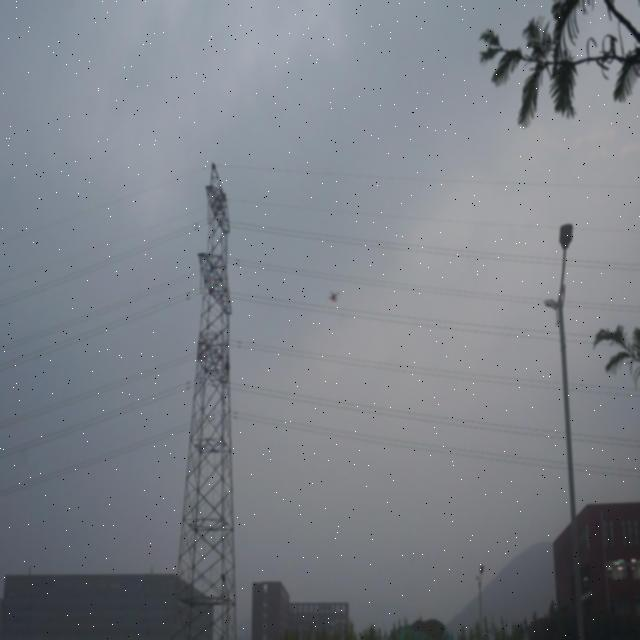UAV: (327, 290, 340, 302)
